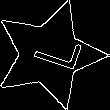L_W: (19, 32, 80, 78)
